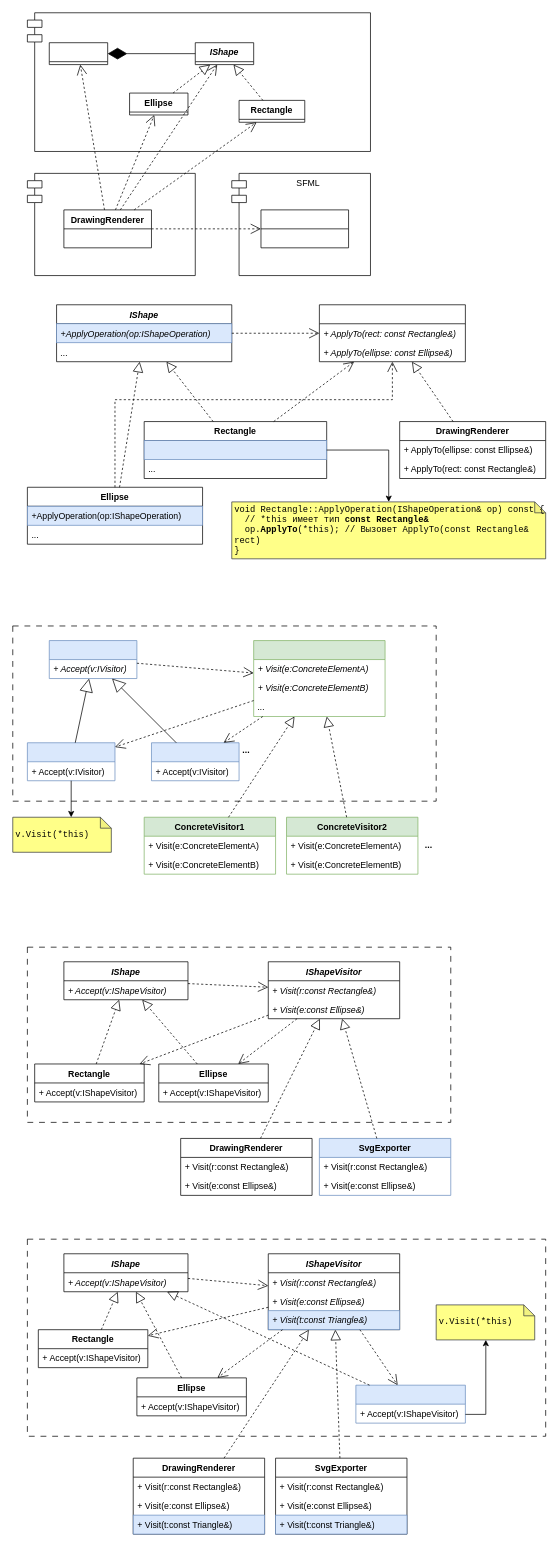
Some shapes in this 558 by 1549 pixel diagram are drawn without their labels. The shapes that lost their labels are listed below. From the top down, each one's box as (x1, y1, x2, y2) in pixels, then its label:
(49, 42, 108, 65): Drawing
(27, 12, 370, 151): domain
(27, 173, 195, 276): view
(260, 209, 349, 248): sf::RenderTarget
(319, 304, 465, 362): IShapeOperation
(143, 440, 327, 460): +ApplyOperation(op:IShapeOperation&)
(49, 640, 137, 679): Element
(253, 640, 385, 716): IVisitor
(27, 742, 115, 781): ConcreteElementA
(151, 742, 239, 781): ConcreteElementB
(355, 1384, 465, 1423): Triangle
